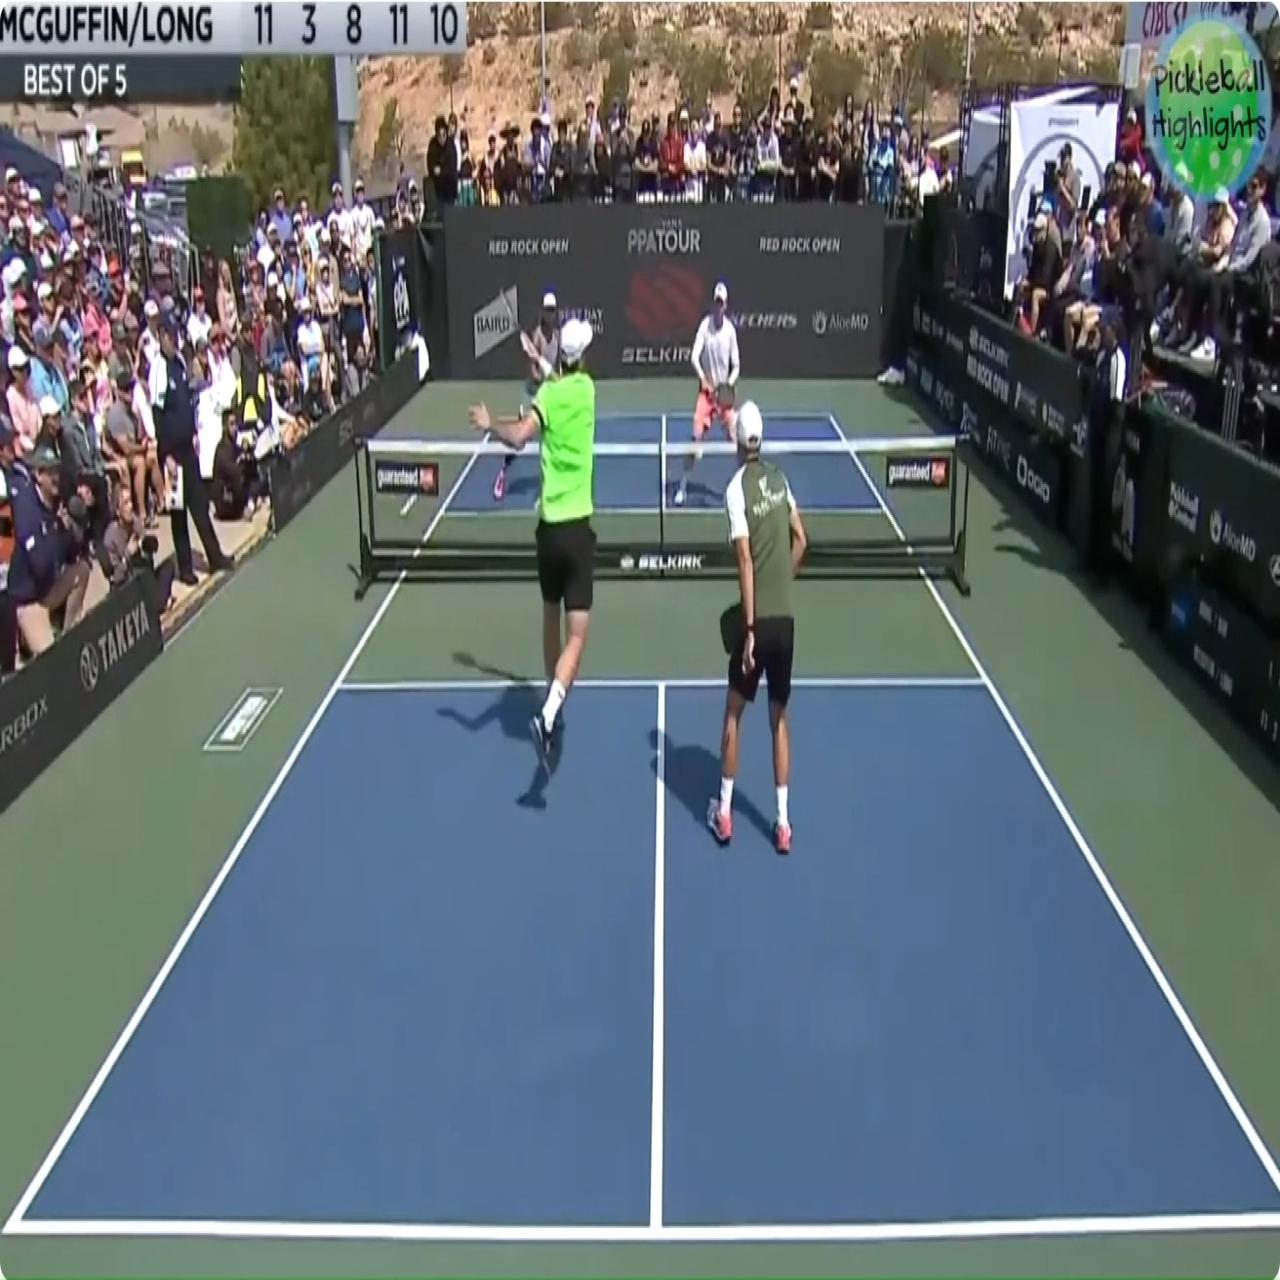pickleball: (695, 448, 703, 461)
